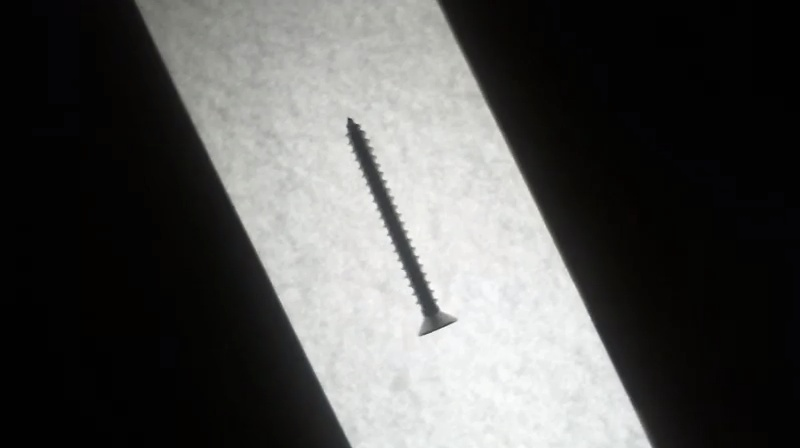S002: (343, 114, 463, 339)
